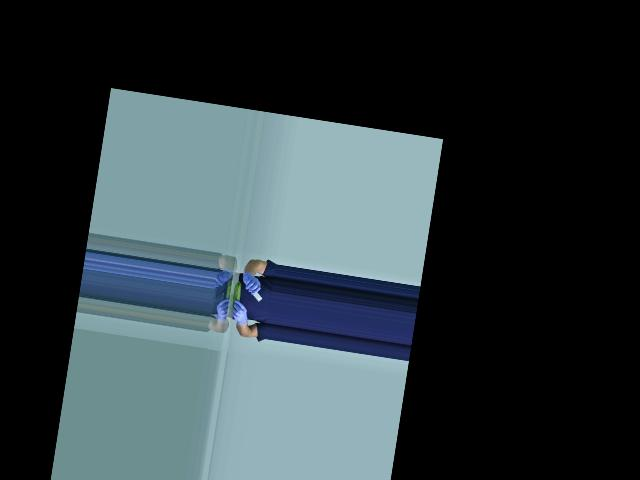cucumber: (231, 280, 242, 308)
